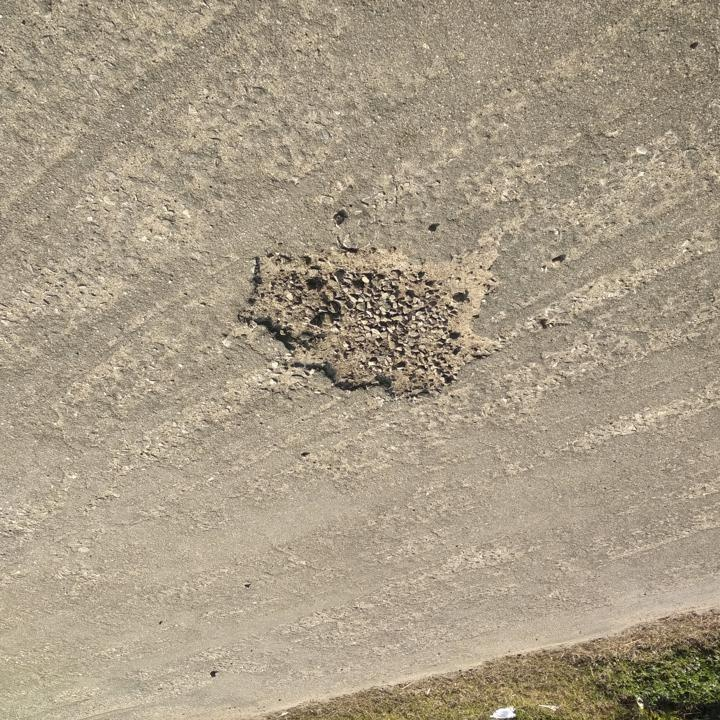pothole: (232, 246, 506, 404)
